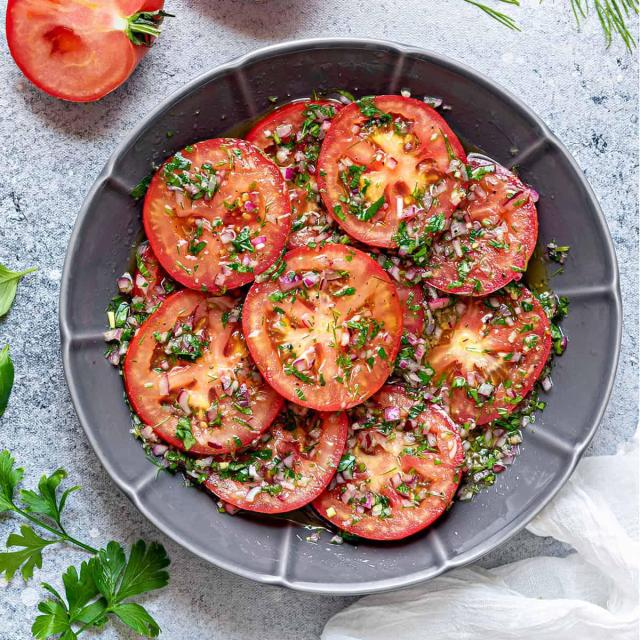Tomato: (122, 292, 280, 450), (246, 244, 403, 402), (141, 138, 297, 288), (323, 95, 468, 246), (334, 404, 474, 538), (422, 297, 552, 429), (454, 158, 540, 294)
